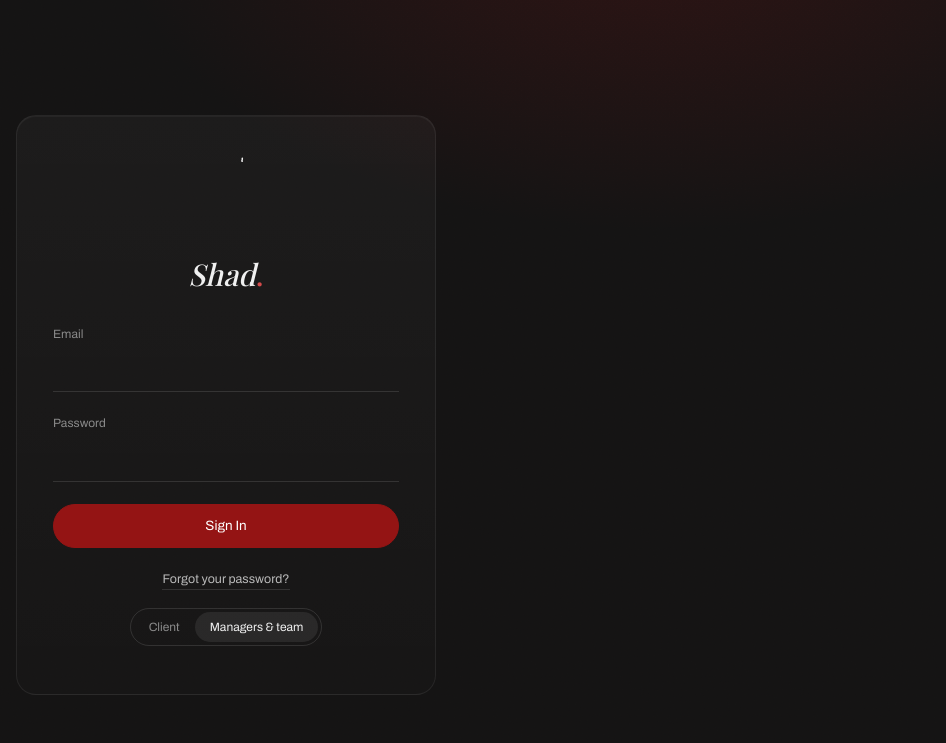
Test: LoginPage › shows the server-provided error message and does not redirect
Type "a@a.com" into the field labelled "Email" at (226, 371), box top-left (53, 351), bottom-right (399, 392)
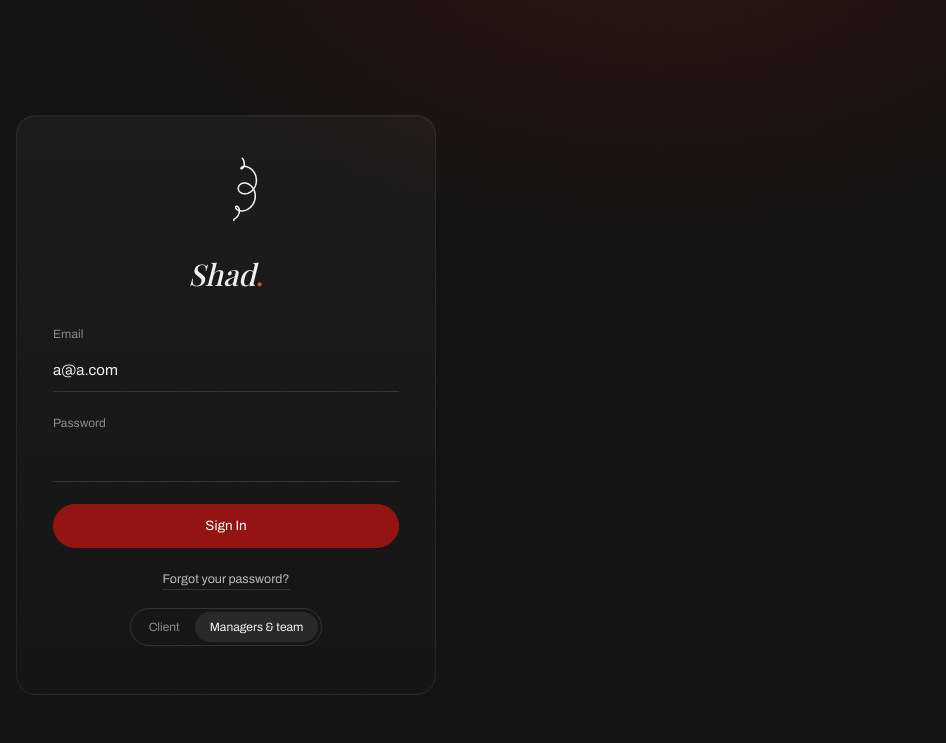
Type "wrong" into the password field labelled "Password" at (226, 461), box top-left (53, 440), bottom-right (399, 482)
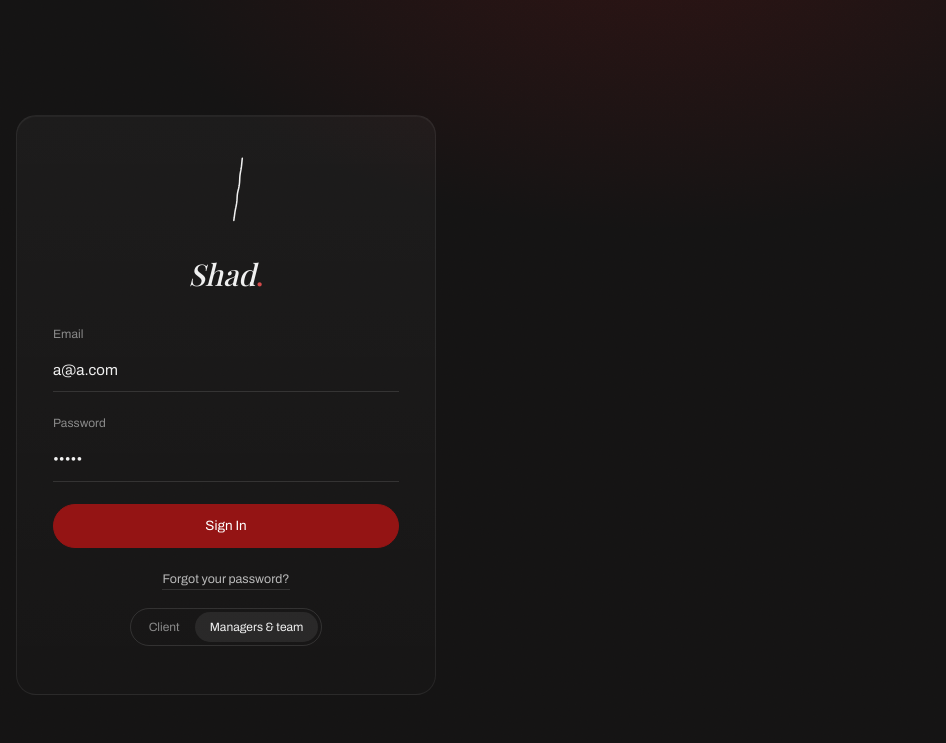
Click the button "Sign In" at (226, 526), box top-left (53, 504), bottom-right (399, 548)
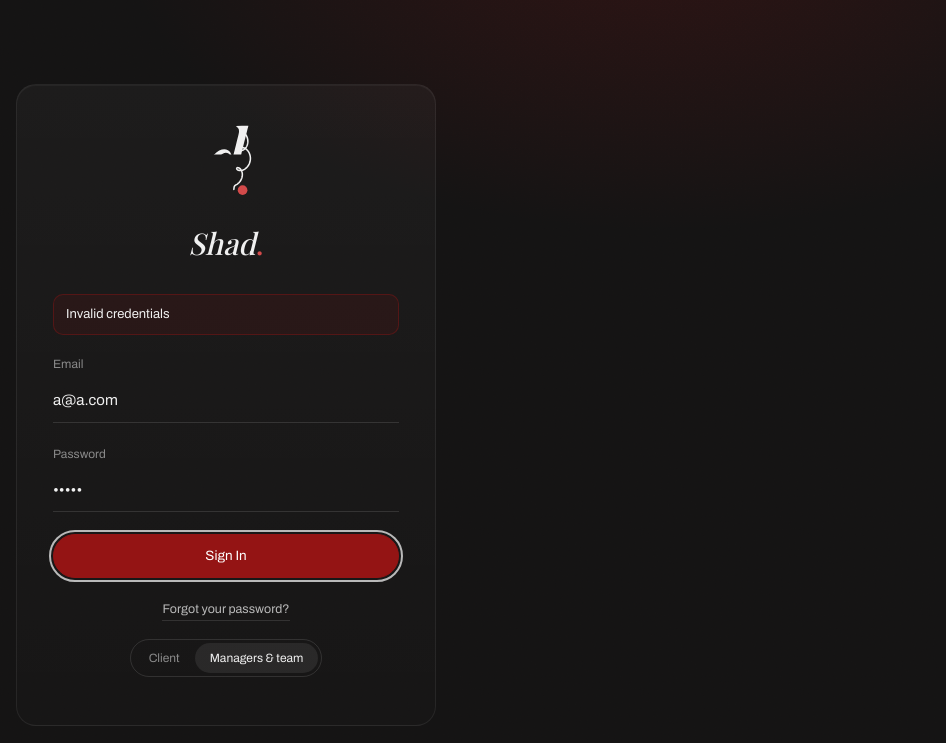
Expected: the text "Invalid credentials" is shown, top-left (53, 294), bottom-right (399, 335)
